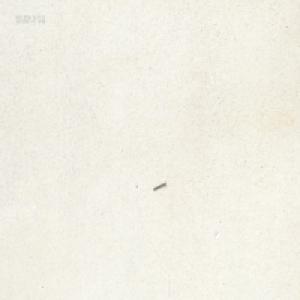Bolt: (152, 180, 166, 191)
